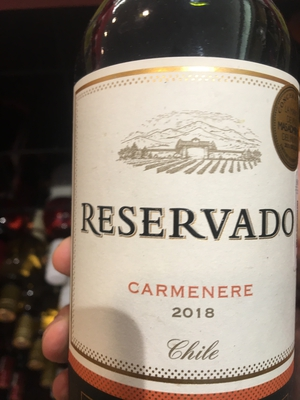reservado carmenere: (66, 16, 300, 367)
